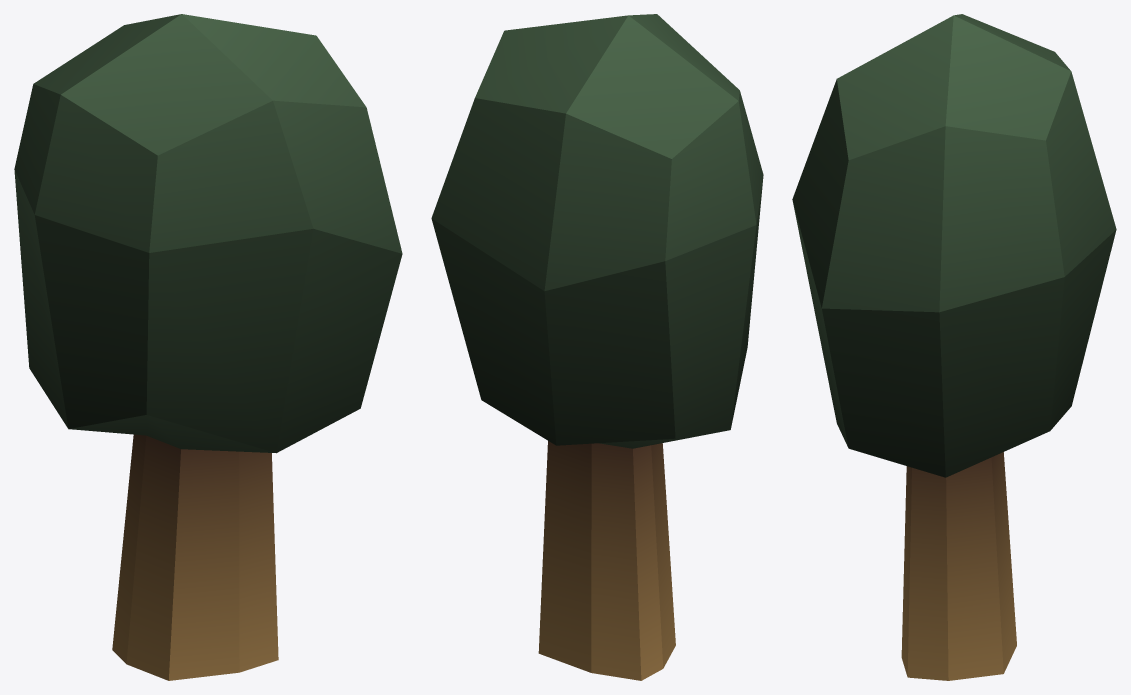
File: SmallTree.fbx
3 renders of one model, left to right at view 1: azimuth 30°, elevation 25°; view 2: azimuth 150°, elevation 25°; view 3: azimuth 270°, elevation 25°, orthographic. The views are drawn at different scales.
Visible parts, largest first — view 1: Cube.014; view 2: Cube.014; view 3: Cube.014.
Boxes of the visible parts, <box> form: Cube.014: <box>14,14,402,680</box>; Cube.014: <box>431,14,763,680</box>; Cube.014: <box>792,14,1116,680</box>.
Bounding box in the file's own units: 43.28 × 81.42 × 38.11.
